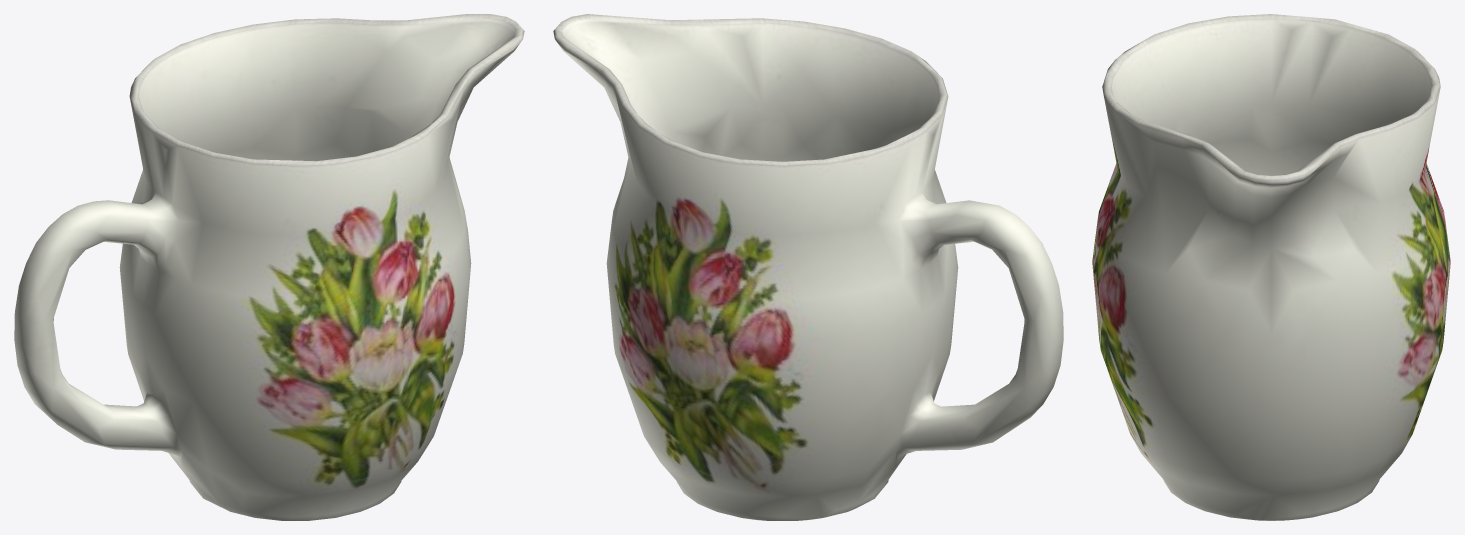
File: jug_01_lod.gltf
The picture shows the model from 3 angles, left to right: view 1: azimuth 30°, elevation 25°; view 2: azimuth 150°, elevation 25°; view 3: azimuth 270°, elevation 25°; orthographic projection. The views are drawn at different scales.
Parts seen in each view (by area): view 1: jug_01; view 2: jug_01; view 3: jug_01.
Part boxes in pixels (box(x1,y1,x2,y2)): jug_01: box(14, 14, 524, 520); jug_01: box(553, 14, 1063, 520); jug_01: box(1092, 14, 1450, 520).
Size of the model in its own units: 0.275 by 0.2113 by 0.1675.
1 material, 1 textured.
